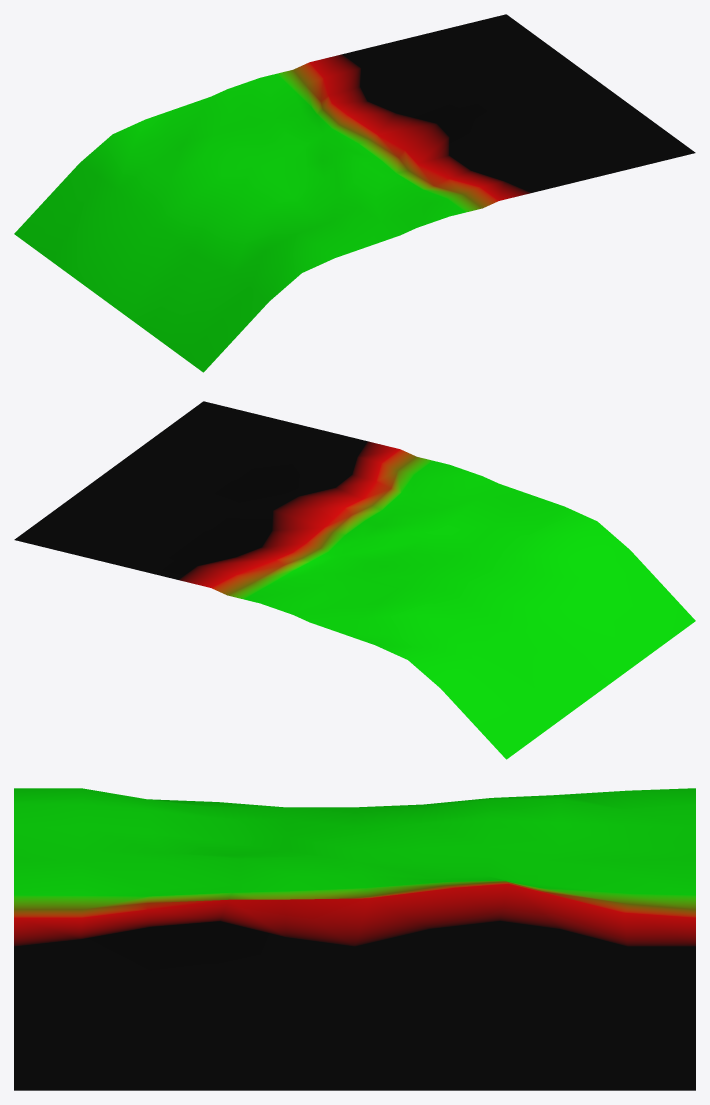
Rendered from Section_WayLine02_Coast_Terrain.fbx.
3 renders of one model, top to bottom at view 1: azimuth 30°, elevation 25°; view 2: azimuth 150°, elevation 25°; view 3: azimuth 270°, elevation 25°, orthographic. The views are drawn at different scales.
Visible parts, largest first — view 1: Section_WayLine02_Coast_Terrain; view 2: Section_WayLine02_Coast_Terrain; view 3: Section_WayLine02_Coast_Terrain.
Boxes of the visible parts, x1,y1,x2,y2 form: Section_WayLine02_Coast_Terrain: (14,14,695,372); Section_WayLine02_Coast_Terrain: (14,401,695,759); Section_WayLine02_Coast_Terrain: (14,788,695,1090).
Bounding box in the file's own units: 7500 × 1515 × 5000.
